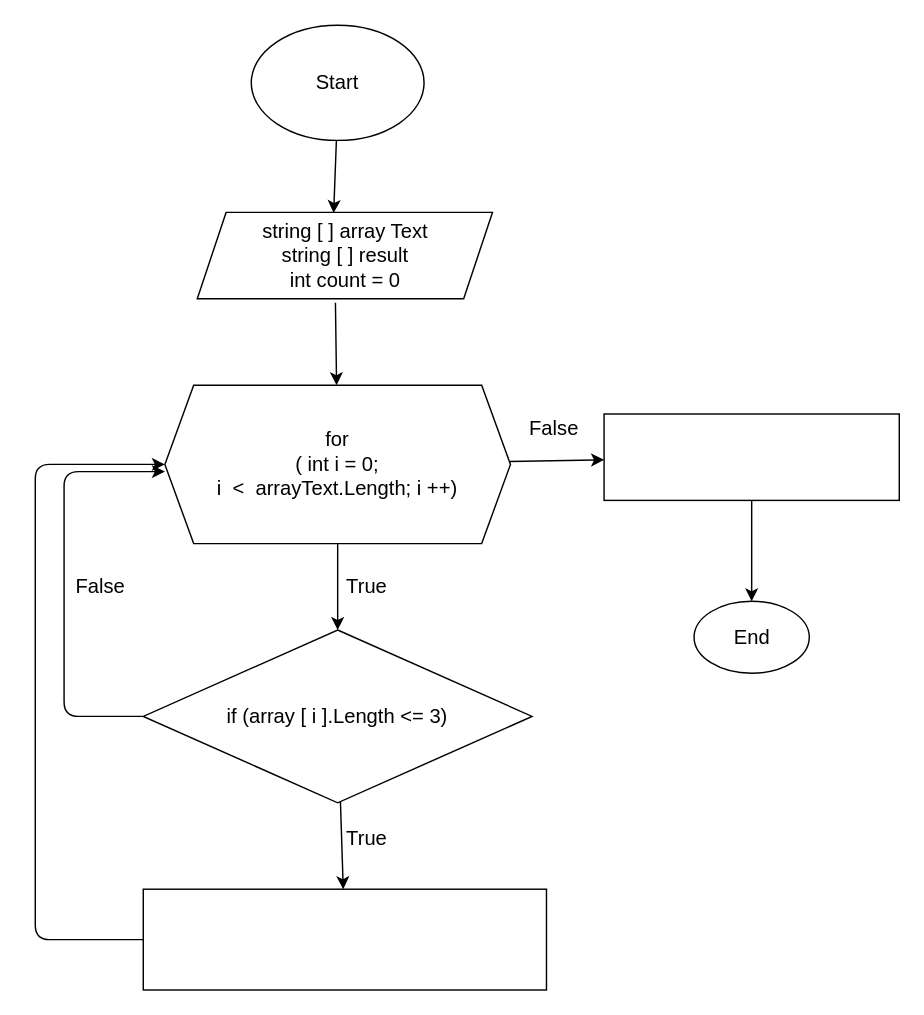
This 924x1015 diagram has some shape labels left out. The centre of each missing label's shape, as x and y in pixels:
"ptint ( string [ ] result )" belongs at point (751, 456).
"result [ count ] = array [ i ] count ++" belongs at point (344, 939).
